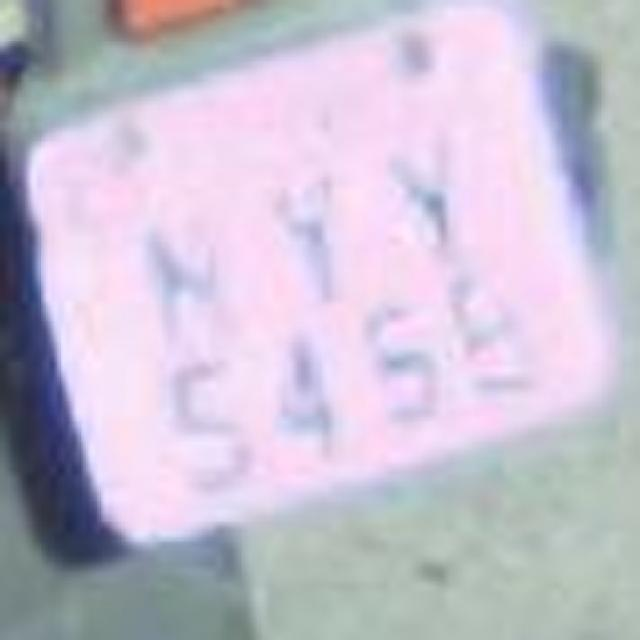4: (244, 304, 368, 484)
5: (144, 332, 268, 488), (436, 248, 549, 404), (344, 280, 456, 435)
N: (244, 140, 371, 320), (364, 108, 476, 288)
